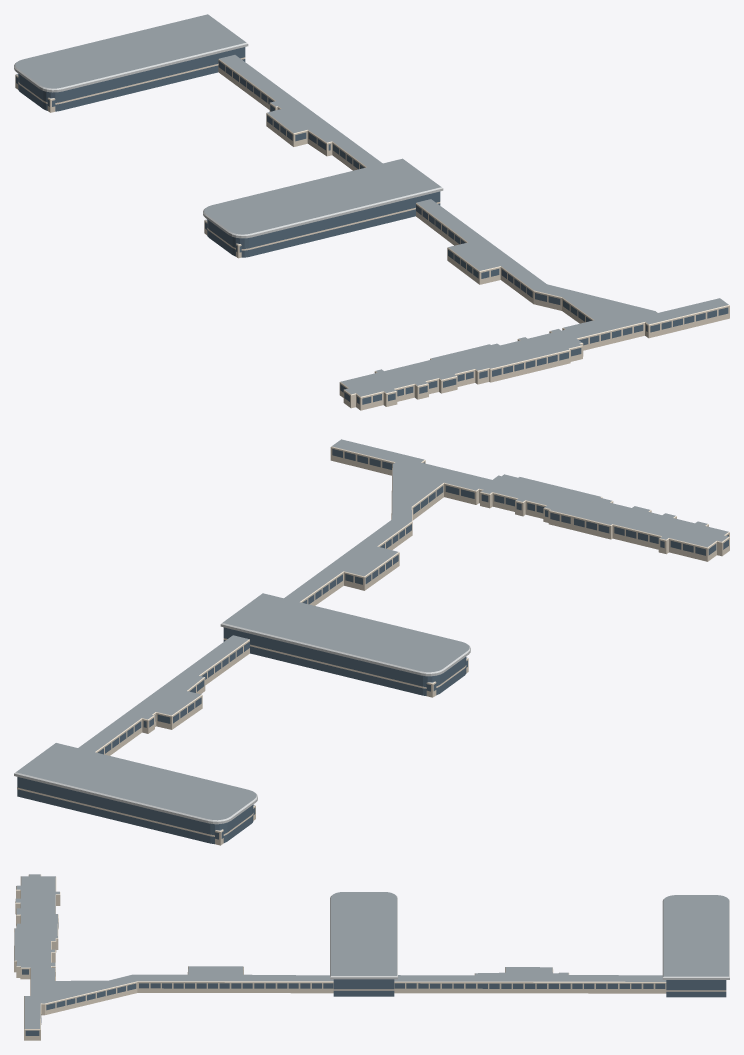
The model's file is clt-concourse-a.glb.
The picture shows the model from 3 angles, top to bottom: view 1: azimuth 30°, elevation 25°; view 2: azimuth 150°, elevation 25°; view 3: azimuth 270°, elevation 25°; orthographic projection. The views are drawn at different scales.
Visible parts, largest first — view 1: Charlotte Douglas International Airport Concourse A; view 2: Charlotte Douglas International Airport Concourse A; view 3: Charlotte Douglas International Airport Concourse A.
Boxes of the visible parts, left/top/right/bottom form: Charlotte Douglas International Airport Concourse A: left=14, top=14, right=729, bottom=410; Charlotte Douglas International Airport Concourse A: left=14, top=439, right=729, bottom=845; Charlotte Douglas International Airport Concourse A: left=14, top=874, right=729, bottom=1040.
Size of the model in its own units: 290 by 18 by 566.
